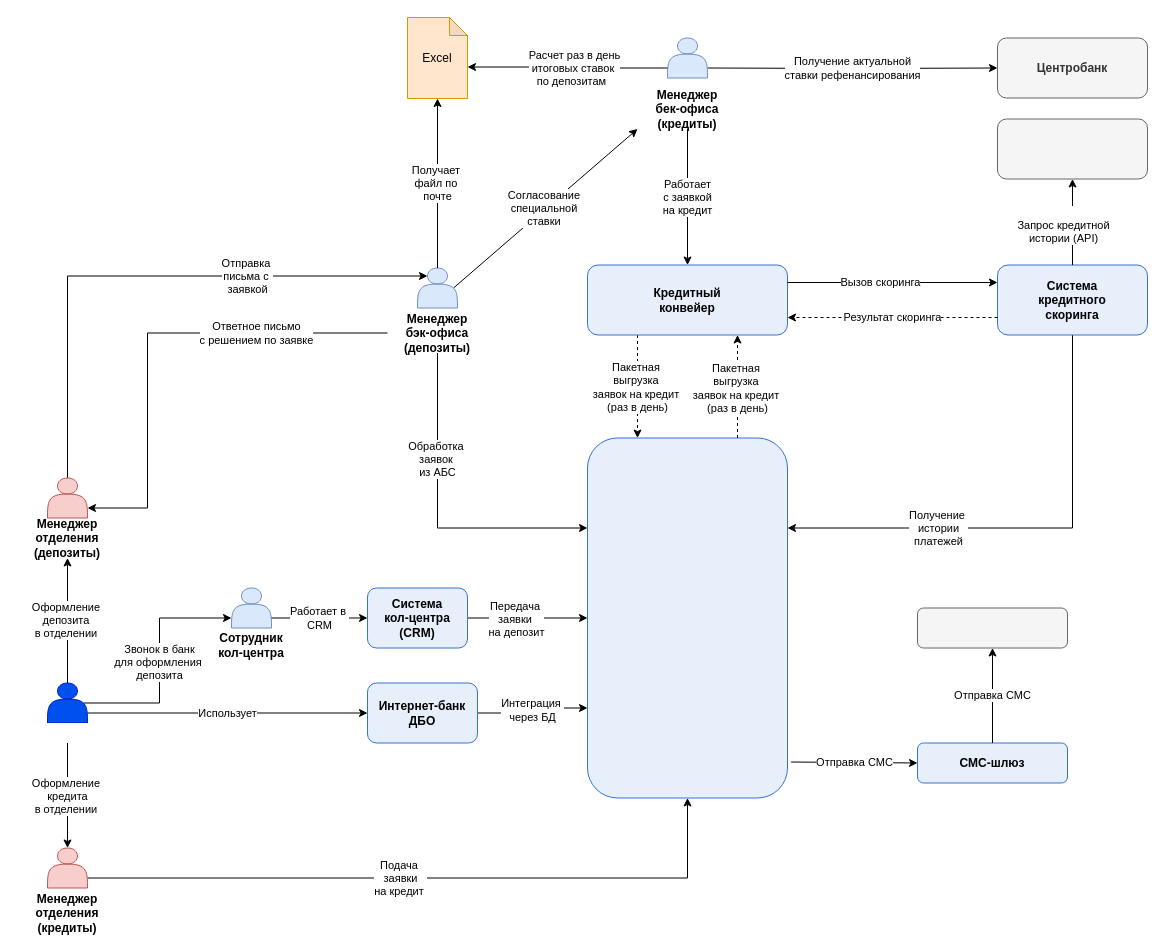
Some shapes in this 1165 by 952 pixel diagram are drawn without their labels. The shapes that lost their labels are listed below. From the top down, each one's box as (x1, y1, x2, y2) in pixels, then its label:
(996, 118, 1148, 179): Бюро кредитных историй
(586, 437, 788, 798): АБС Автоматизированная банковская система
(916, 607, 1068, 648): Телеком-оператор
(27, 722, 107, 742): Клиент
